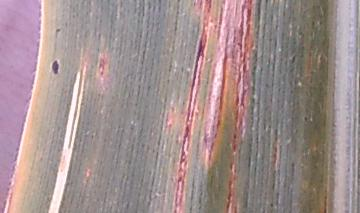tarspot: (50, 58, 59, 75), (53, 27, 60, 34), (302, 115, 307, 122)
